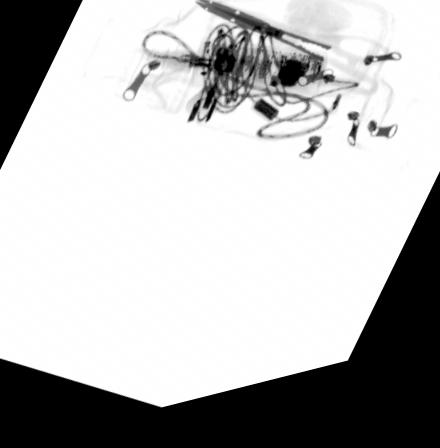Scissors: (192, 5, 389, 113)
